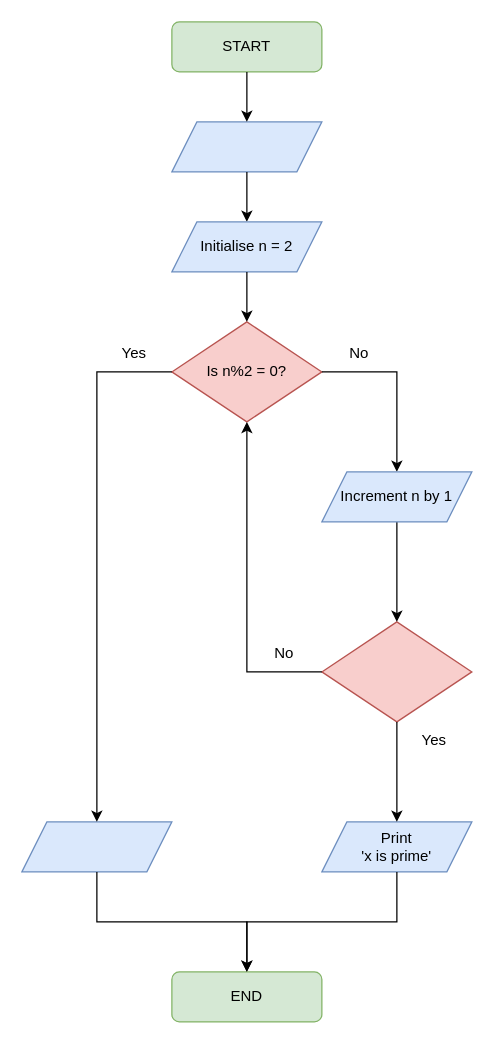
The diagram is 494 pixels wide and 1044 high, and some of its shapes have lost their labels. The shapes that lost their labels are listed below. From the top down, each one's centre as x and y in pixels, then its label:
At point 246,146: "Get x = integer".
At point 396,671: "Is n > sqrt(x)?".
At point 96,846: "Print 'x is not prime'".
